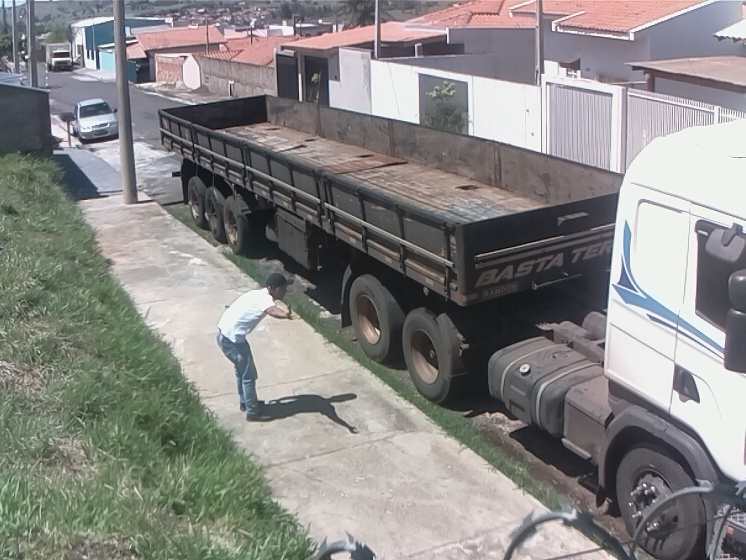person: (213, 272, 299, 422)
